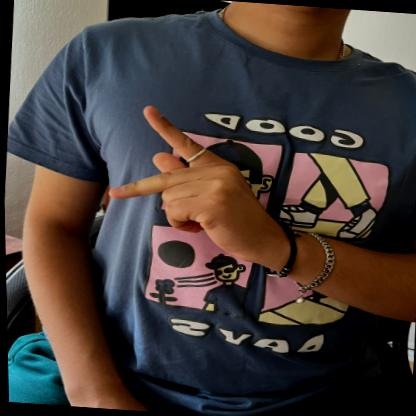K: (100, 92, 281, 265)
